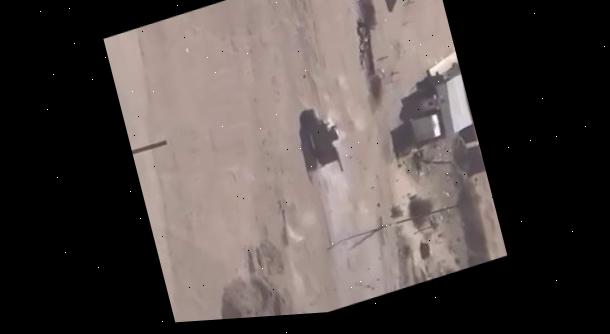armored_car: (298, 100, 346, 169)
